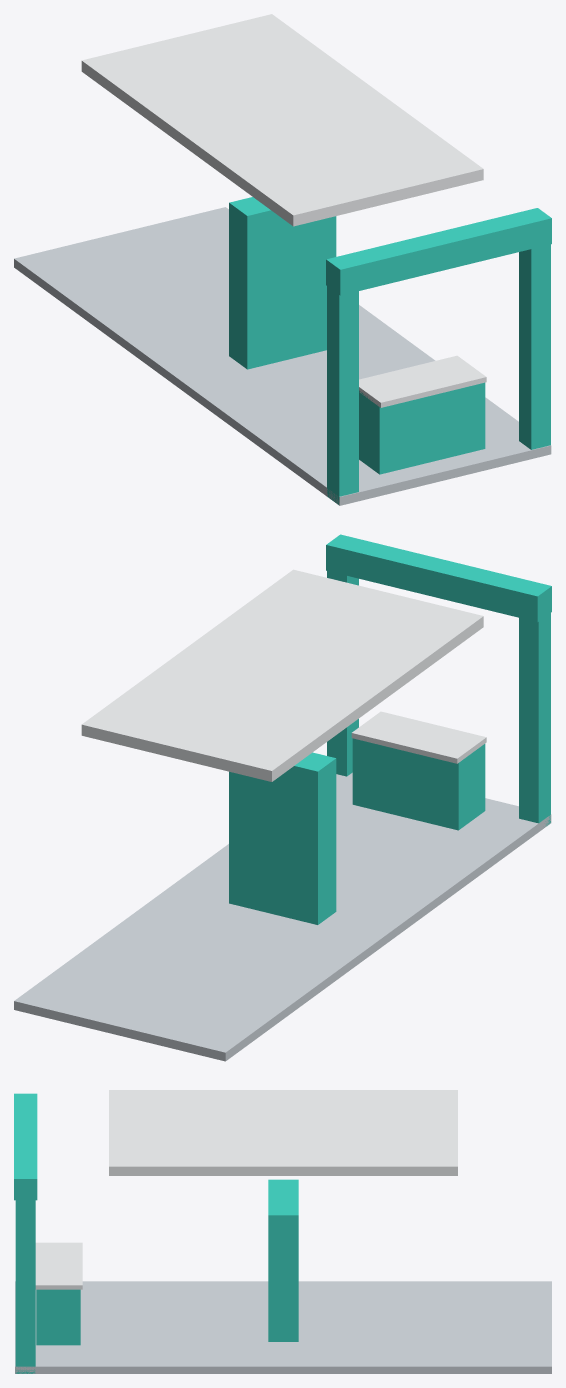
3 views of the same model, one above another, from view 1: azimuth 30°, elevation 25°; view 2: azimuth 150°, elevation 25°; view 3: azimuth 270°, elevation 25° (orthographic). The views are drawn at different scales.
Visible parts, largest first — view 1: Exhibition Booth Concept; view 2: Exhibition Booth Concept; view 3: Exhibition Booth Concept.
Part boxes in pixels (x1=…): Exhibition Booth Concept: x1=14, y1=14, x2=551, y2=505; Exhibition Booth Concept: x1=14, y1=534, x2=551, y2=1061; Exhibition Booth Concept: x1=14, y1=1090, x2=551, y2=1373.
Bounding box in the file's own units: 3 × 3.34 × 8.01.
